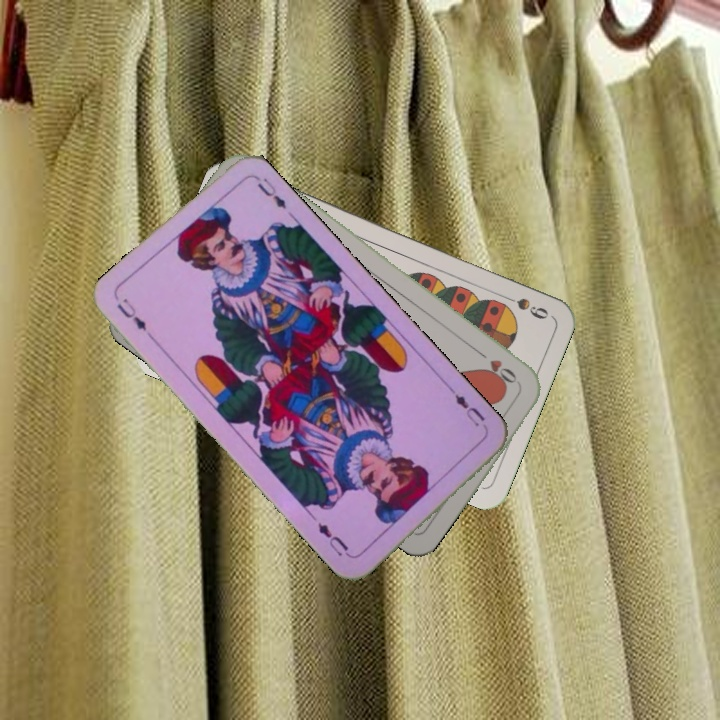EU: (112, 294, 158, 344), (446, 384, 488, 430)
HO: (473, 346, 523, 388)
S9: (495, 290, 551, 322)
